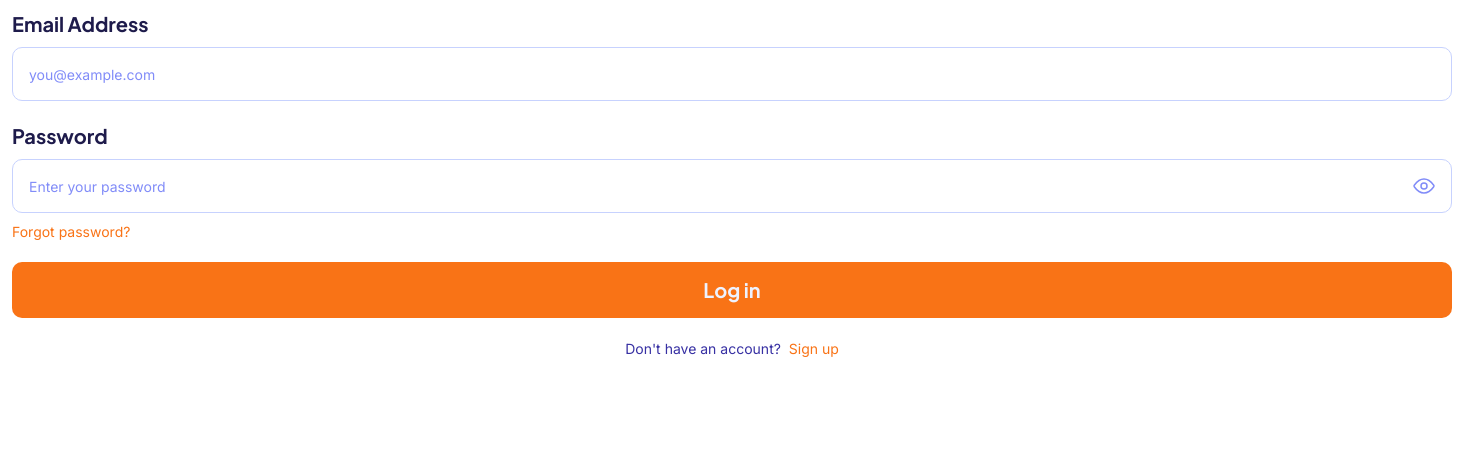
Test case: LoginForm — unverified email recovery › offers a resend link once login reports the email is unverified
Type "tobi@example.com" into the field labelled "Email Address" at [732, 74], box [12,47,1452,101]
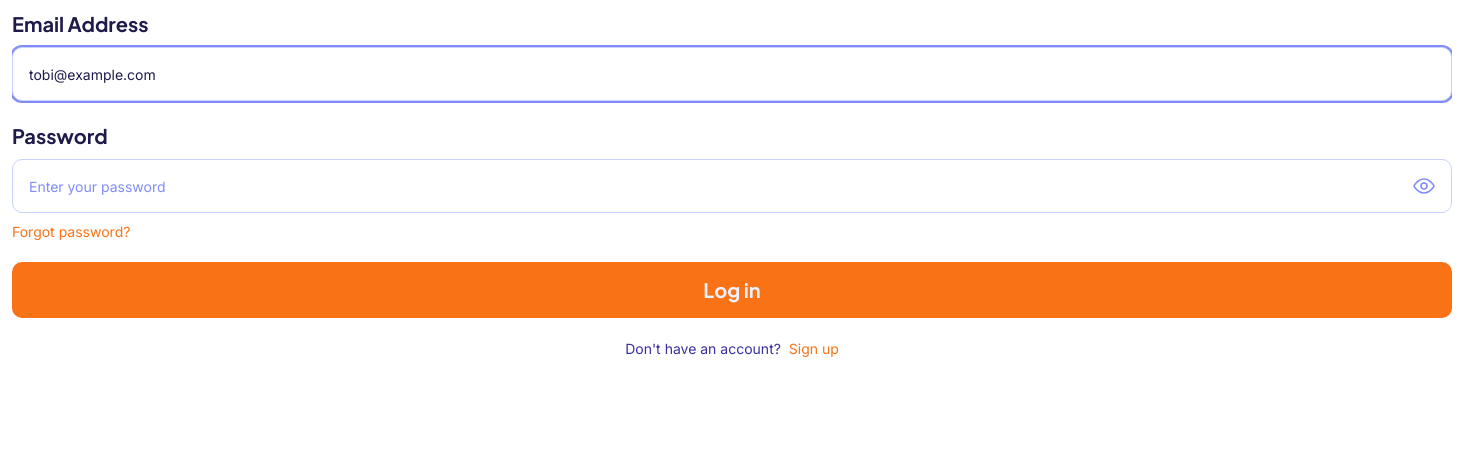
Type "Passw0rdd" into the password field labelled "Password" at [732, 186], box [12,159,1452,213]
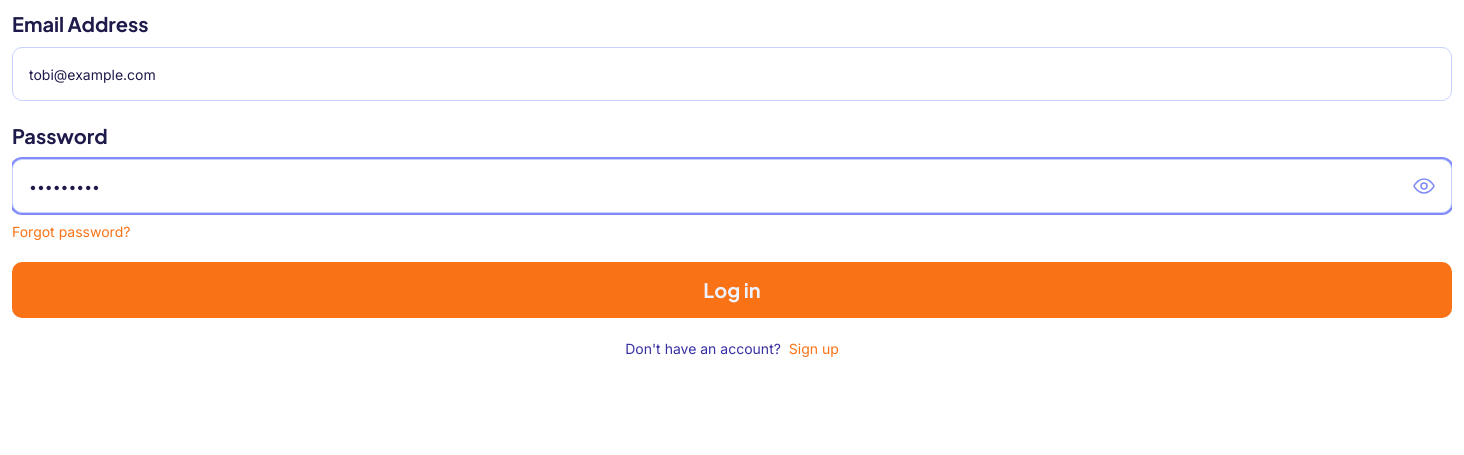
Click the button "Log in" at [732, 290], box [12,262,1452,318]
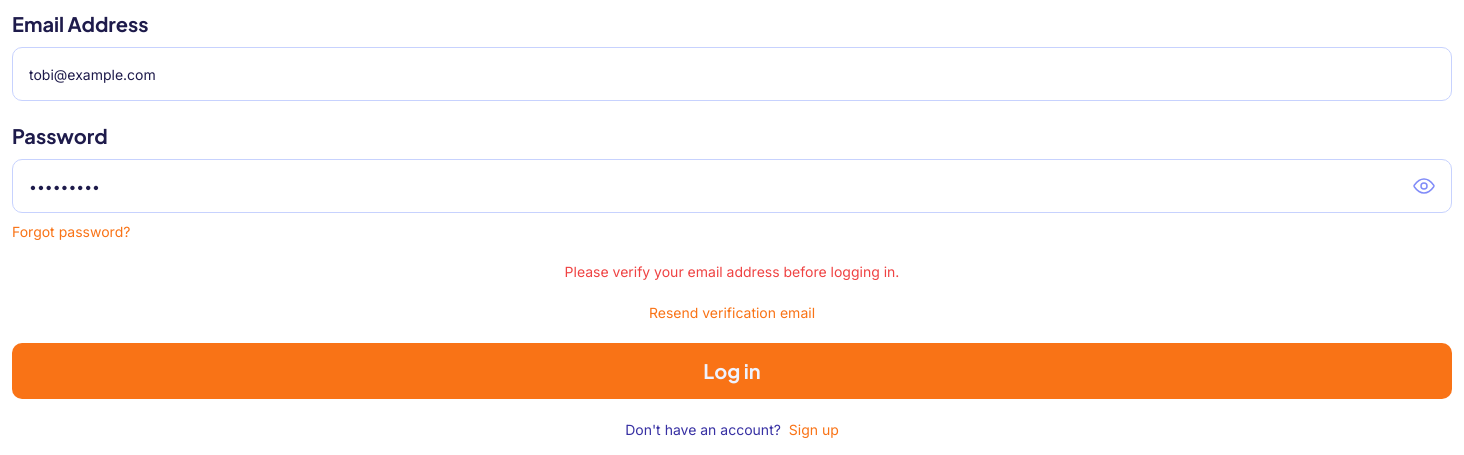
Result: the button "Resend verification email" is shown at [649,302,815,323]
